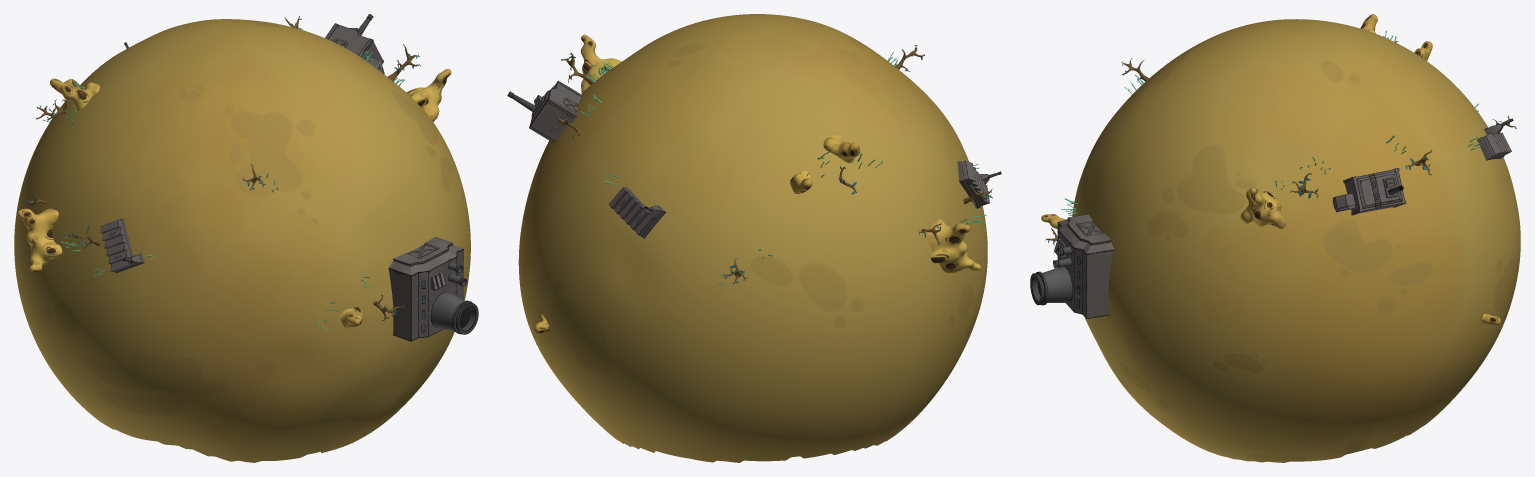
Rendered from planet_ant_iteration_2.gltf.
3 views of the same model, side by side, from view 1: azimuth 30°, elevation 25°; view 2: azimuth 150°, elevation 25°; view 3: azimuth 270°, elevation 25° (orthographic). The views are drawn at different scales.
Parts seen in each view (by area): view 1: Icosphere.003; view 2: Icosphere.003; view 3: Icosphere.003.
Boxes of the visible parts, x1,y1,x2,y2 form: Icosphere.003: (14, 14, 478, 462); Icosphere.003: (507, 14, 1001, 462); Icosphere.003: (1030, 14, 1520, 462).
Bounding box in the file's own units: 13.49 × 11.84 × 14.12.
Materials: 9 (9 with a texture image).
